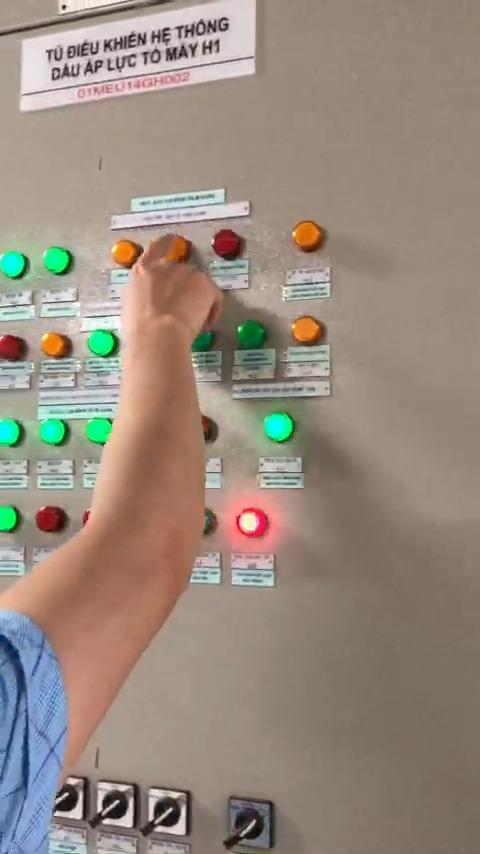led: (210, 230, 248, 264), (290, 220, 326, 255), (290, 314, 326, 348), (33, 501, 68, 535), (237, 505, 271, 540), (38, 325, 72, 358), (37, 411, 70, 445), (258, 412, 291, 445), (87, 323, 119, 356), (237, 319, 268, 351), (87, 411, 118, 443), (109, 239, 143, 268), (184, 323, 215, 351), (42, 246, 70, 275), (0, 251, 25, 283), (0, 326, 24, 359), (0, 414, 20, 443), (0, 502, 19, 532)
twist: (227, 796, 273, 853), (95, 781, 135, 826), (149, 788, 189, 832), (50, 778, 85, 818)
